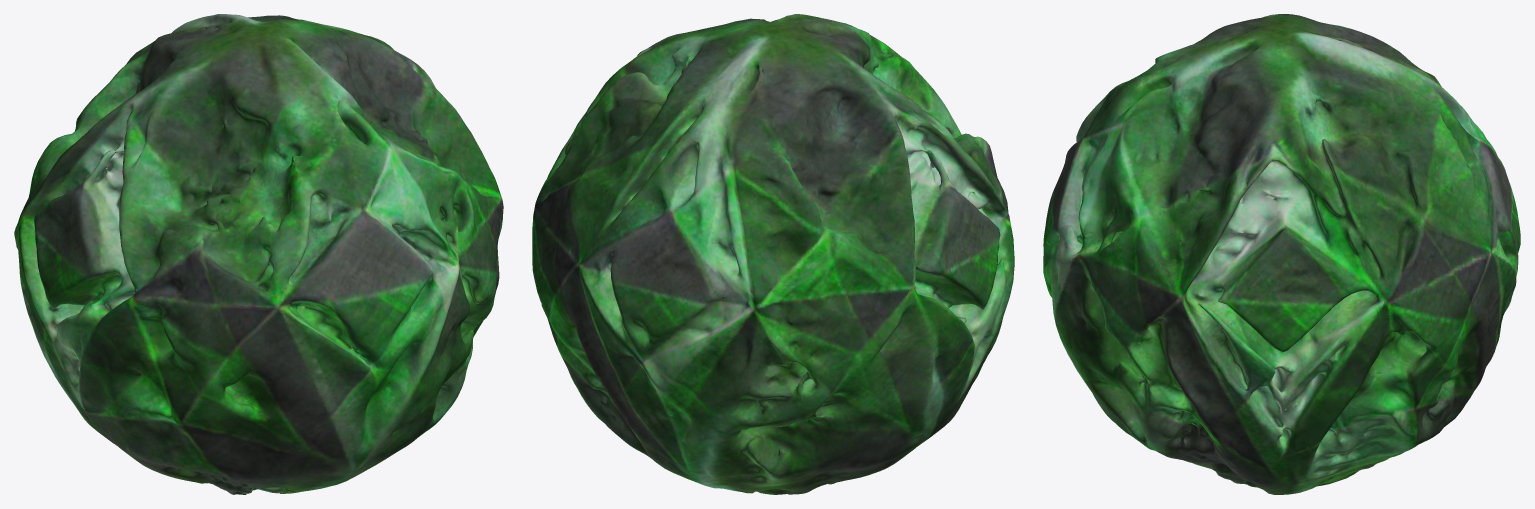
File: 1e822f43f21e_create_green_diamon.fbx
3 views of the same model, side by side, from view 1: azimuth 30°, elevation 25°; view 2: azimuth 150°, elevation 25°; view 3: azimuth 270°, elevation 25° (orthographic).
Parts seen in each view (by area): view 1: high_poly; view 2: high_poly; view 3: high_poly.
Boxes of the visible parts, left/top/right/bottom form: high_poly: left=14, top=14, right=503, bottom=494; high_poly: left=532, top=14, right=1014, bottom=494; high_poly: left=1043, top=14, right=1520, bottom=494.
Size of the model in its own units: 98.96 by 100 by 97.35.
